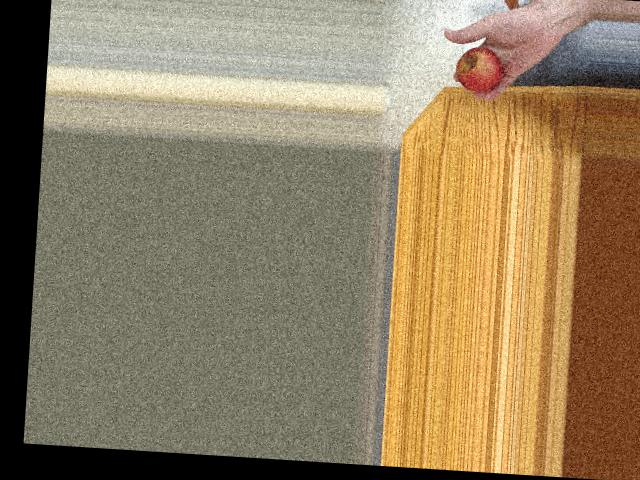apple: (451, 45, 512, 95)
